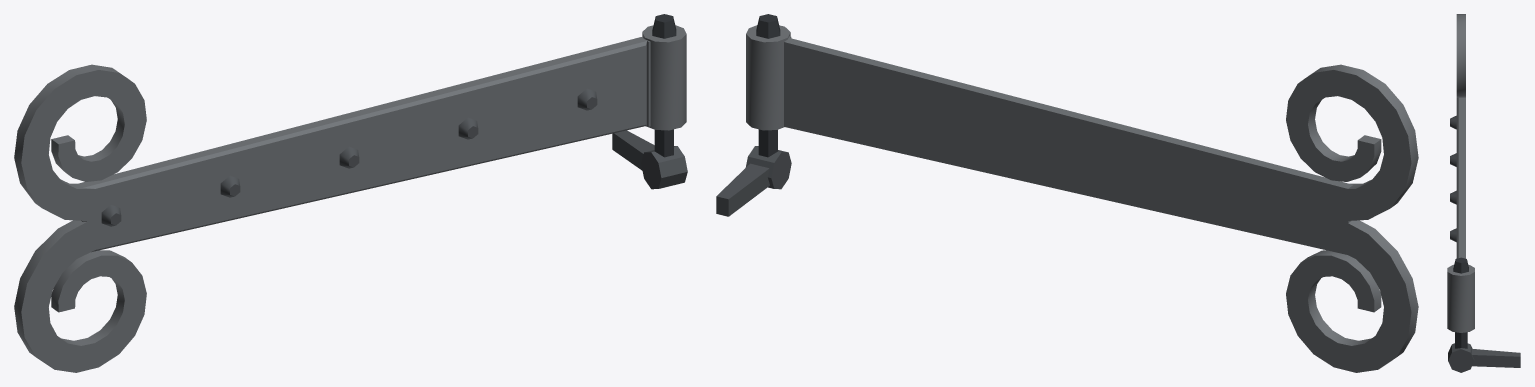
File: SM_LPD_Door_DoorFittingStrapHinge_01.fbx
3 renders of one model, left to right at view 1: azimuth 30°, elevation 25°; view 2: azimuth 150°, elevation 25°; view 3: azimuth 270°, elevation 25°, orthographic. The views are drawn at different scales.
Visible parts, largest first — view 1: SM_LPD_Door_DoorFittingStrapHinge_01; view 2: SM_LPD_Door_DoorFittingStrapHinge_01; view 3: SM_LPD_Door_DoorFittingStrapHinge_01.
Boxes of the visible parts, box(x1,y1,x2,y2) form: SM_LPD_Door_DoorFittingStrapHinge_01: box(14, 14, 687, 372); SM_LPD_Door_DoorFittingStrapHinge_01: box(716, 14, 1418, 372); SM_LPD_Door_DoorFittingStrapHinge_01: box(1447, 14, 1520, 372).
Size of the model in its own units: 0.7558 by 0.3228 by 0.1109.
